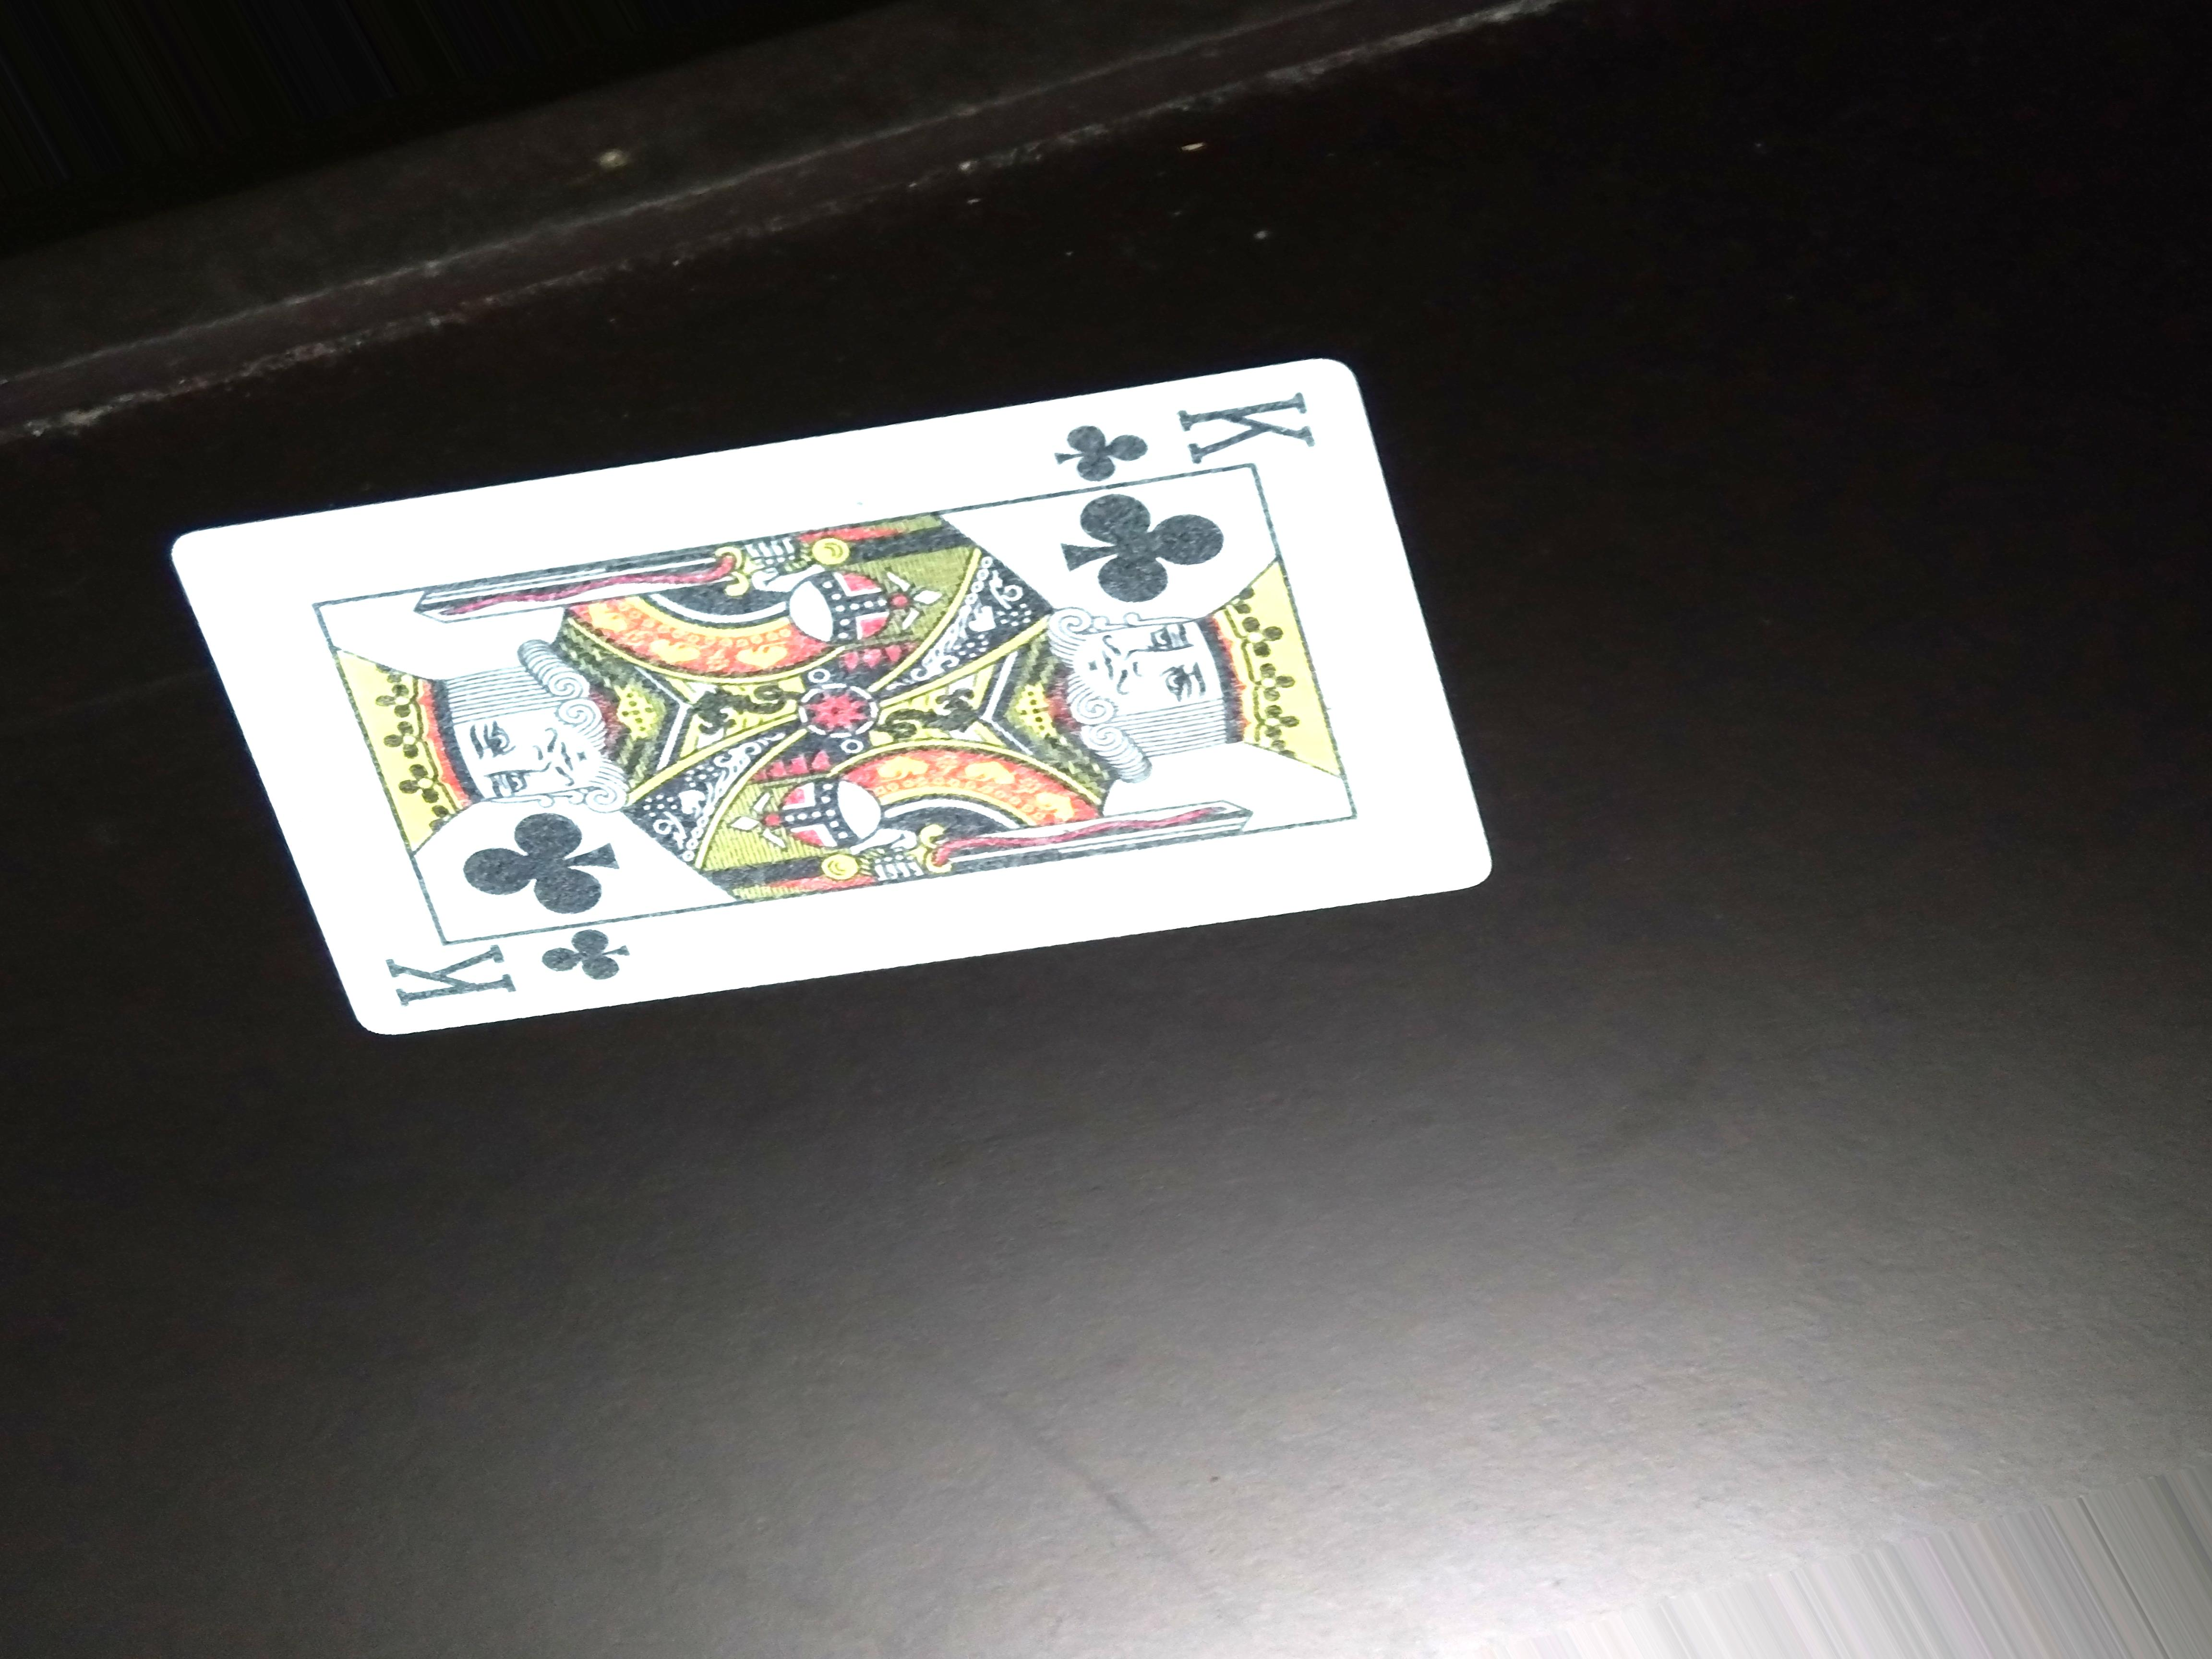KC: (1045, 387, 1318, 481)
